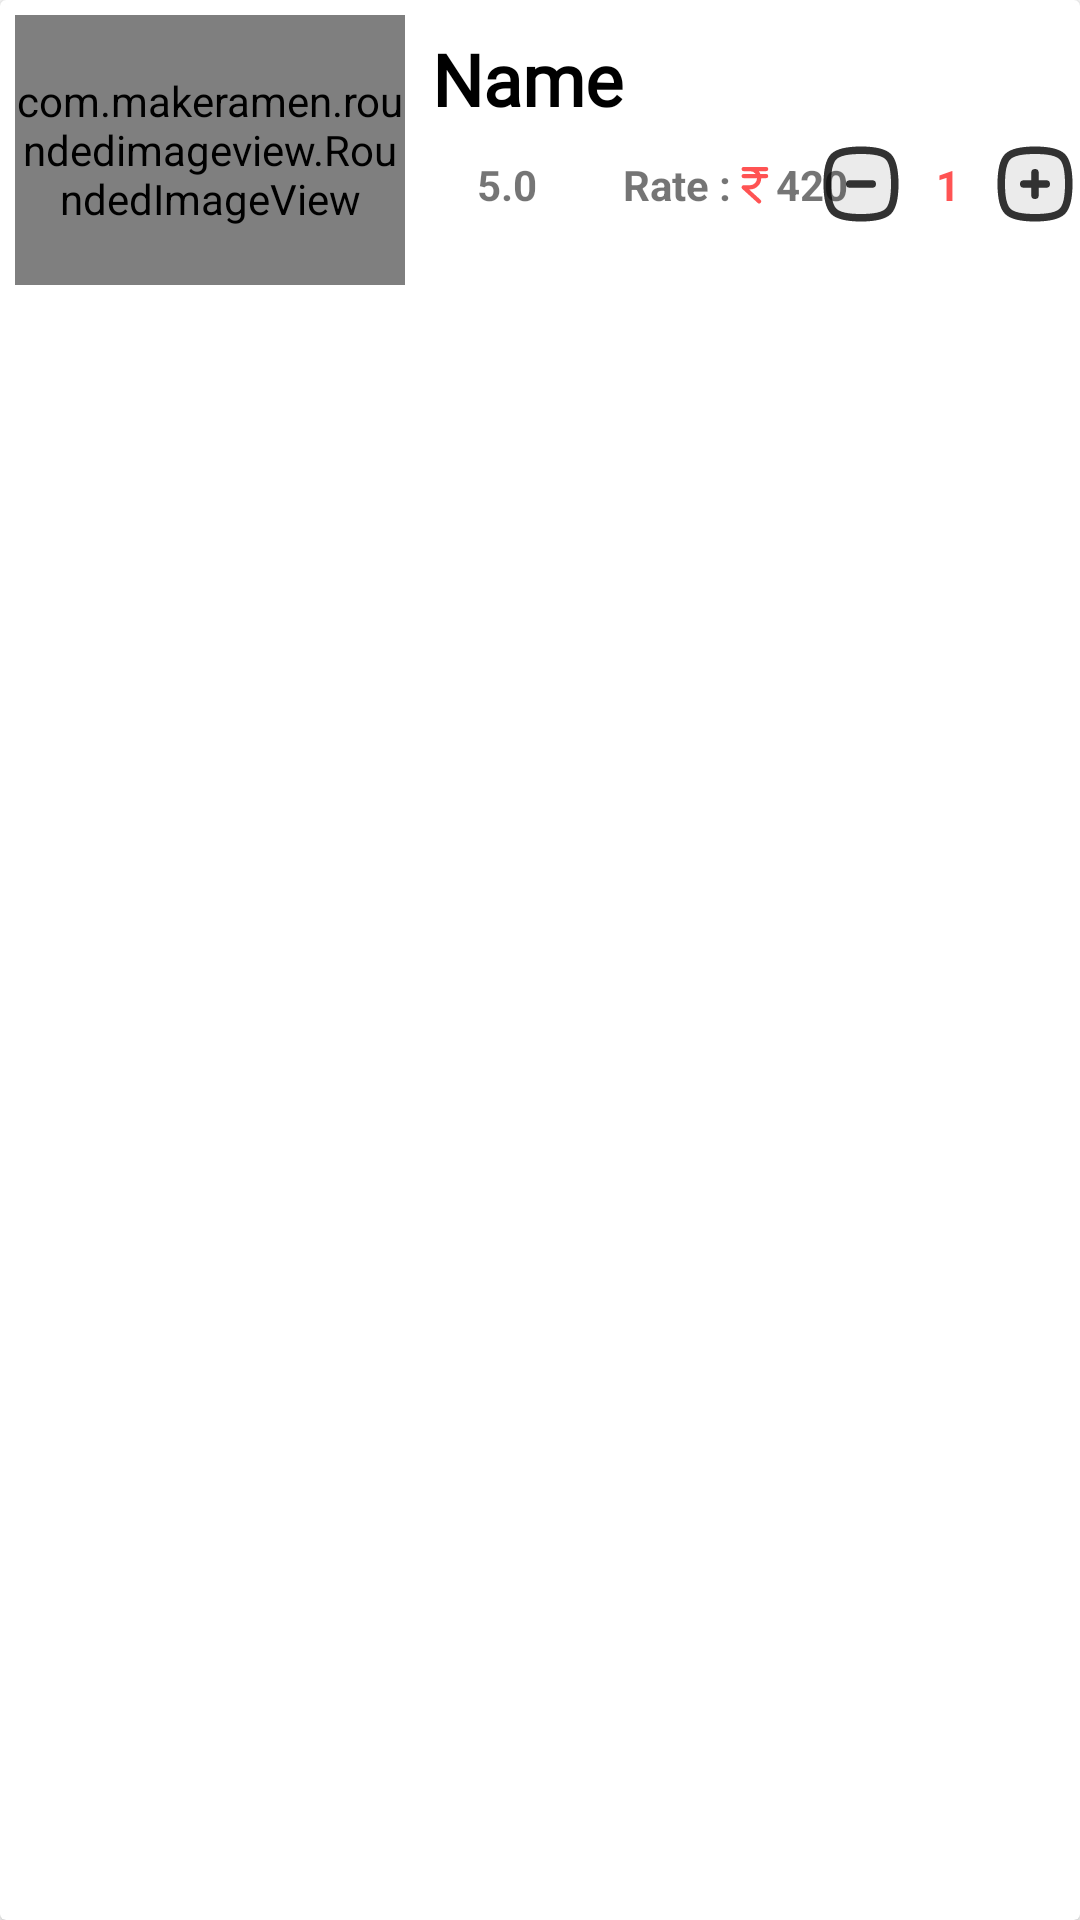

Named icons in this screenshot (1080x1920) and their centers, [x,y]:
inr: [754,185]
minus: [857,184]
plus: [1035,184]
